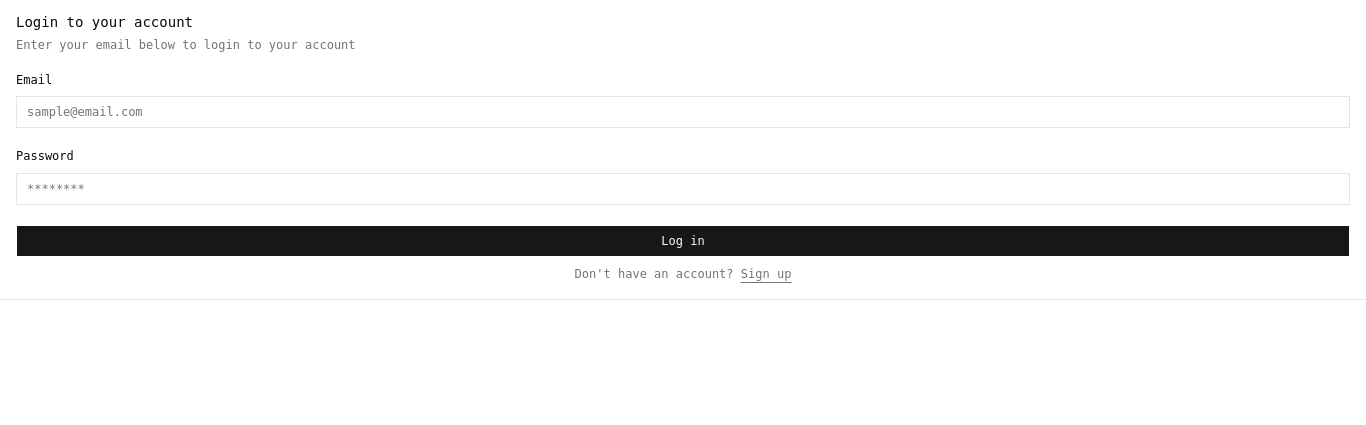
Test case: Login › Shows validation error when email is empty
The width and height of the screenshot is (1366, 425).
Click the button "Log in": [683, 240] box [16,224,1350,256]
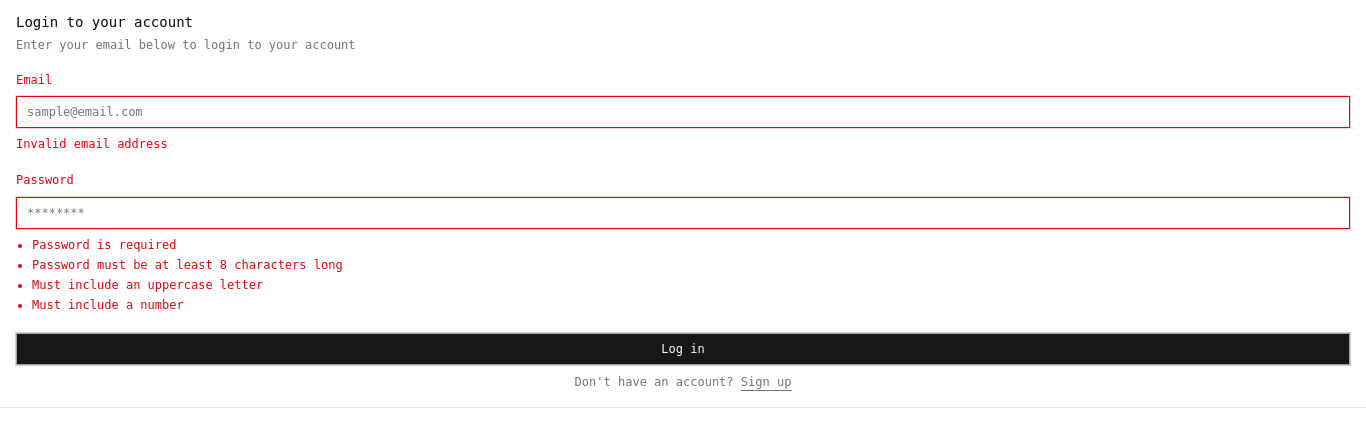
Now the text "Invalid email address" is shown, box [16,137,168,151]
